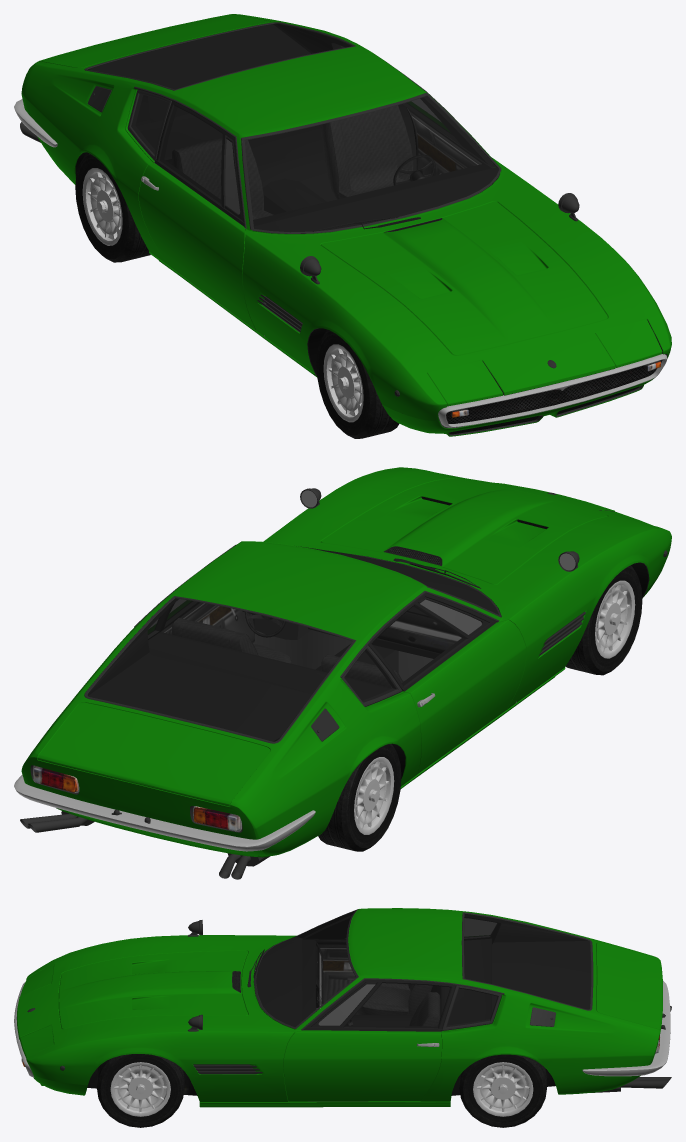
Rendered from Car_3.FBX.
3 renders of one model, top to bottom at view 1: azimuth 30°, elevation 25°; view 2: azimuth 150°, elevation 25°; view 3: azimuth 270°, elevation 25°, orthographic. The views are drawn at different scales.
Parts seen in each view (by area): view 1: Body, Door_F, Door_R, Wheel_FR, Wheel_BR, Light_F, Door_L, Door_B; view 2: Body, Door_F, Door_R, Door_B, Wheel_BR, Wheel_FR, Door_L; view 3: Body, Door_L, Door_F, Wheel_FL, Wheel_BL, Door_B, Door_R, Light_F.
Part boxes in pixels (left/top/right/bottom): Body: left=14, top=14, right=671, bottom=436; Door_F: left=320, top=201, right=607, bottom=355; Door_R: left=138, top=101, right=255, bottom=329; Wheel_FR: left=316, top=329, right=398, bottom=438; Wheel_BR: left=75, top=152, right=150, bottom=262; Light_F: left=427, top=319, right=662, bottom=406; Door_L: left=401, top=96, right=507, bottom=175; Door_B: left=39, top=14, right=269, bottom=67; Body: left=14, top=467, right=671, bottom=879; Door_F: left=321, top=478, right=607, bottom=584; Door_R: left=368, top=593, right=526, bottom=773; Door_B: left=38, top=702, right=270, bottom=806; Wheel_BR: left=318, top=744, right=401, bottom=851; Wheel_FR: left=565, top=565, right=642, bottom=675; Door_L: left=160, top=599, right=254, bottom=644; Body: left=14, top=908, right=671, bottom=1107; Door_L: left=283, top=979, right=455, bottom=1101; Door_F: left=58, top=950, right=248, bottom=1029; Wheel_FL: left=97, top=1054, right=184, bottom=1127; Wheel_BL: left=459, top=1054, right=546, bottom=1127; Door_B: left=596, top=942, right=662, bottom=1030; Door_R: left=295, top=916, right=407, bottom=1003; Light_F: left=20, top=964, right=53, bottom=1058.
Bounding box in the file's own units: 52.69 × 32.8 × 139.
